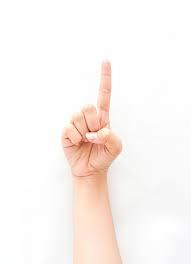Pointing-Up: (59, 53, 127, 196)
